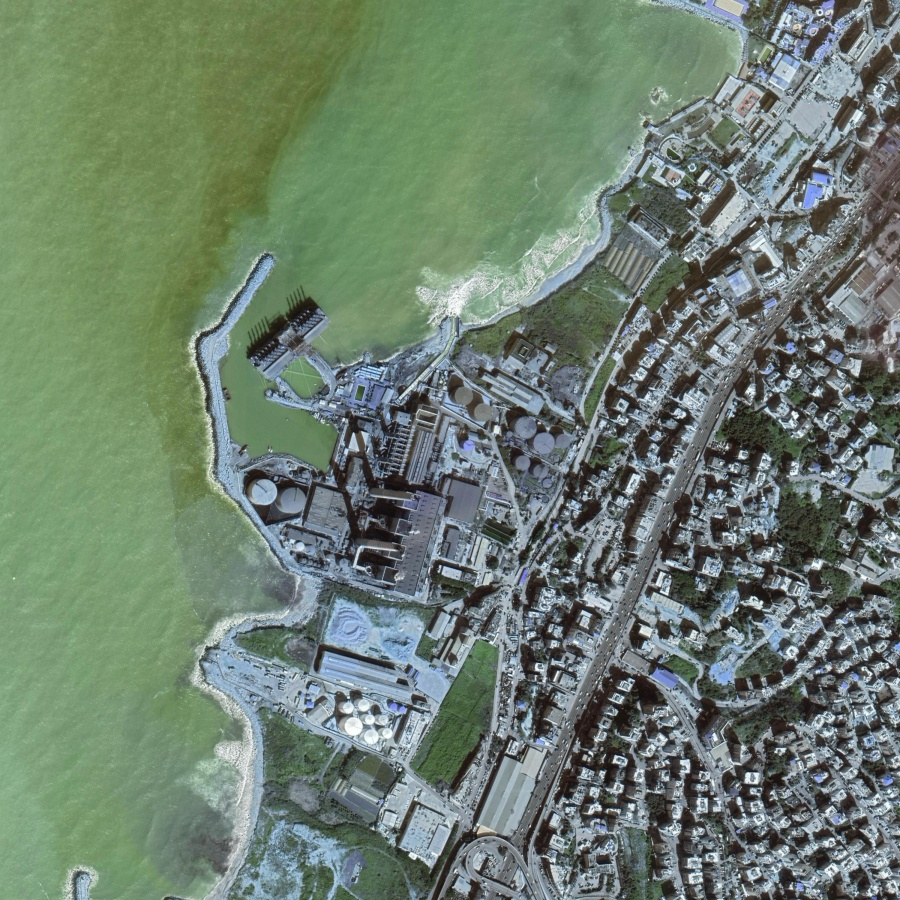PowerPlant: (235, 311, 580, 742)
